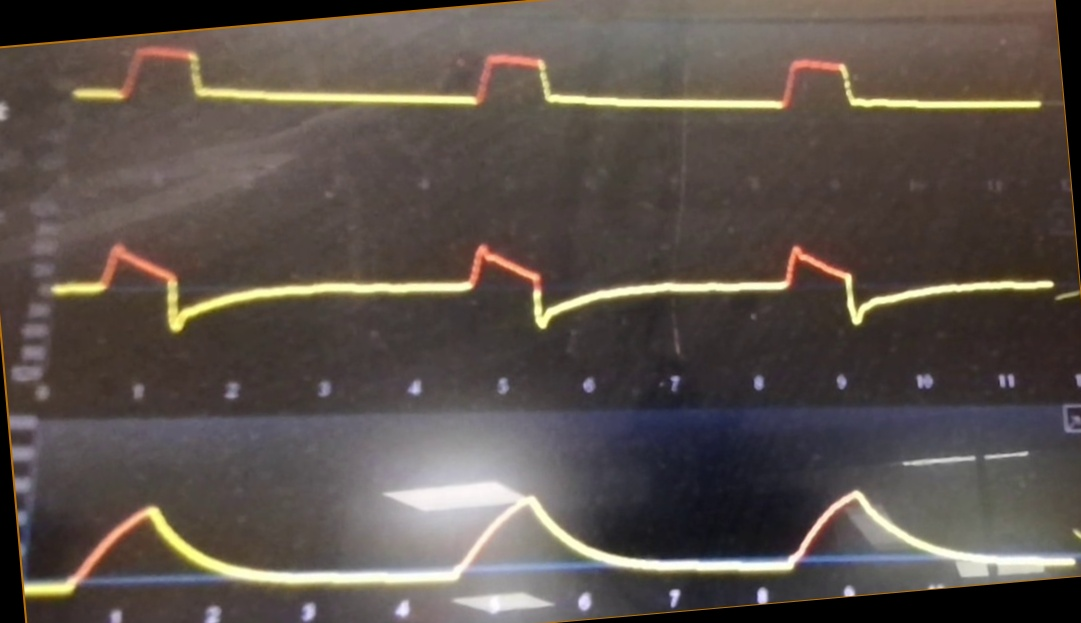Normal Flow: (49, 213, 1055, 349)
Normal Volume: (26, 477, 1081, 598)
